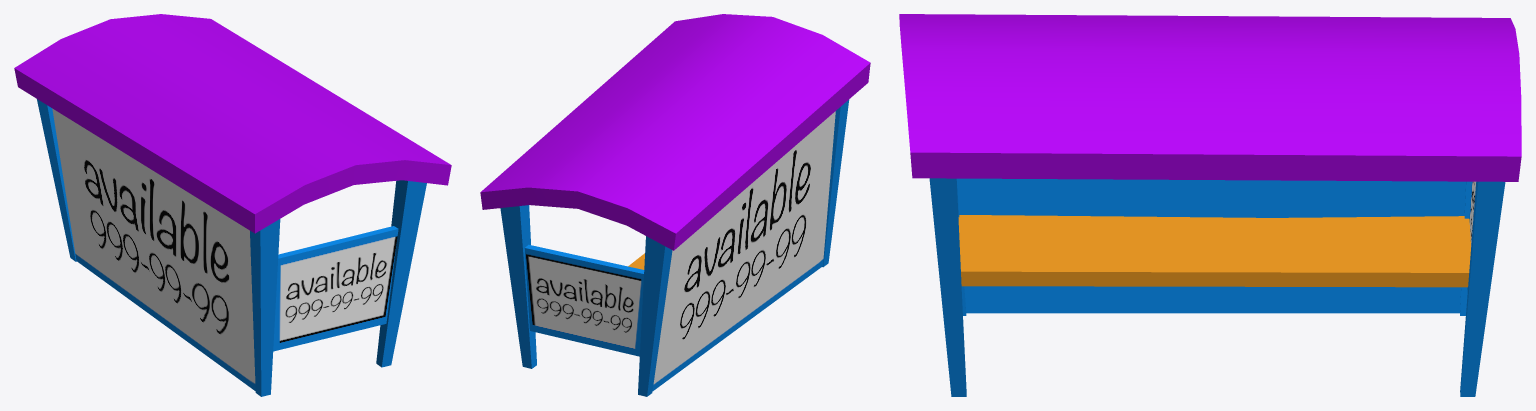
Rendered from BusStop.fbx.
3 renders of one model, left to right at view 1: azimuth 30°, elevation 25°; view 2: azimuth 150°, elevation 25°; view 3: azimuth 270°, elevation 25°, orthographic. The views are drawn at different scales.
Visible parts, largest first — view 1: TODOS:BusStop:pCube1, TODOS:BusStop:pPlane2, TODOS:BusStop:busstopsign1:pCube6, TODOS:BusStop:pCube2, TODOS:BusStop:pCube5, TODOS:BusStop:pCube3; view 2: TODOS:BusStop:pCube1, TODOS:BusStop:pPlane2, TODOS:BusStop:pCube6, TODOS:BusStop:pCube3, TODOS:BusStop:pCube4, TODOS:BusStop:pCube2; view 3: TODOS:BusStop:pCube1, TODOS:BusStop:pCube8, TODOS:BusStop:pPlane1, TODOS:BusStop:pCube4, TODOS:BusStop:pCube5.
Part boxes in pixels (x1=…): TODOS:BusStop:pCube1: x1=14, y1=14, x2=451, y2=233; TODOS:BusStop:pPlane2: x1=52, y1=108, x2=255, y2=390; TODOS:BusStop:busstopsign1:pCube6: x1=273, y1=226, x2=398, y2=351; TODOS:BusStop:pCube2: x1=250, y1=219, x2=280, y2=396; TODOS:BusStop:pCube5: x1=376, y1=180, x2=426, y2=367; TODOS:BusStop:pCube3: x1=37, y1=99, x2=76, y2=261; TODOS:BusStop:pCube1: x1=480, y1=14, x2=870, y2=250; TODOS:BusStop:pPlane2: x1=652, y1=111, x2=835, y2=390; TODOS:BusStop:pCube6: x1=524, y1=244, x2=644, y2=356; TODOS:BusStop:pCube3: x1=638, y1=236, x2=672, y2=396; TODOS:BusStop:pCube4: x1=500, y1=205, x2=536, y2=368; TODOS:BusStop:pCube2: x1=822, y1=99, x2=849, y2=267; TODOS:BusStop:pCube1: x1=899, y1=14, x2=1521, y2=181; TODOS:BusStop:pCube8: x1=958, y1=215, x2=1470, y2=287; TODOS:BusStop:pPlane1: x1=956, y1=178, x2=1465, y2=313; TODOS:BusStop:pCube4: x1=1460, y1=181, x2=1505, y2=396; TODOS:BusStop:pCube5: x1=929, y1=178, x2=966, y2=396.
Bounding box in the file's own units: 8.22 × 8.13 × 14.7.
